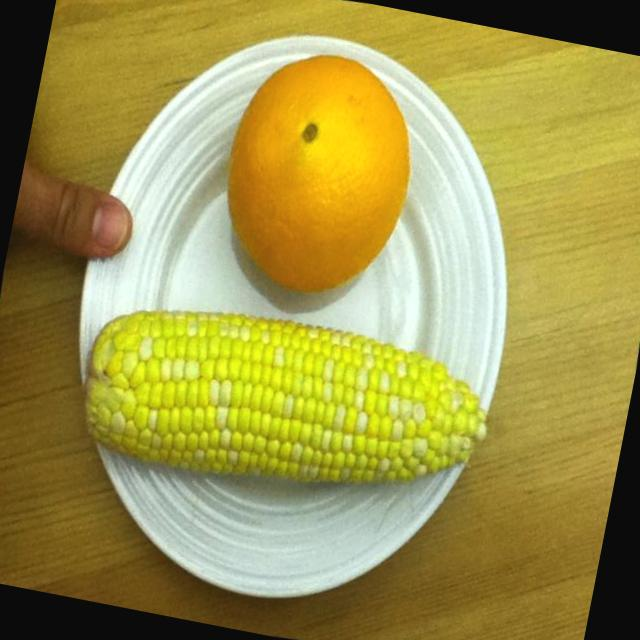Corn: (47, 259, 523, 542)
Orange: (180, 27, 447, 324)
